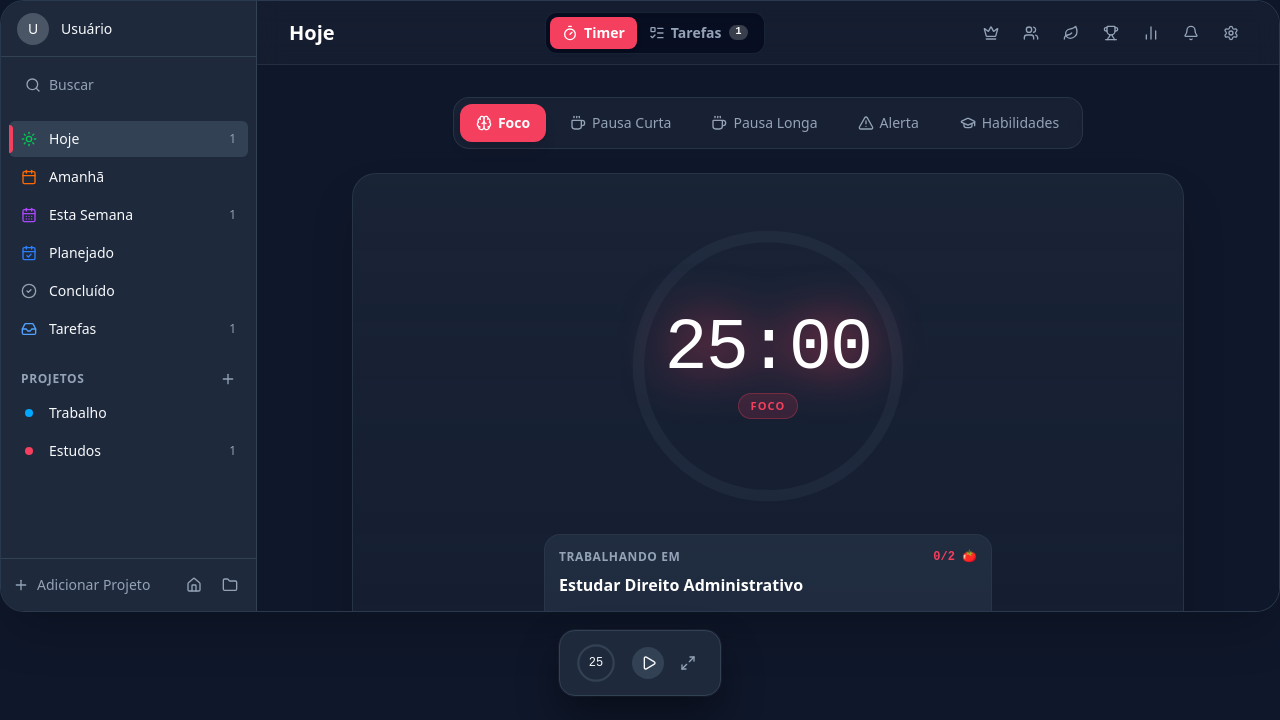
PomodoroView Responsive & Direct Display › allows toggling between Timer view and Tasks view seamlessly
Note: Use aria-label to uniquely target the tab switcher buttons (not the sidebar)
Click the button with aria-label "Alternar para Tarefas" at [698, 32], box [637,16,760,48]
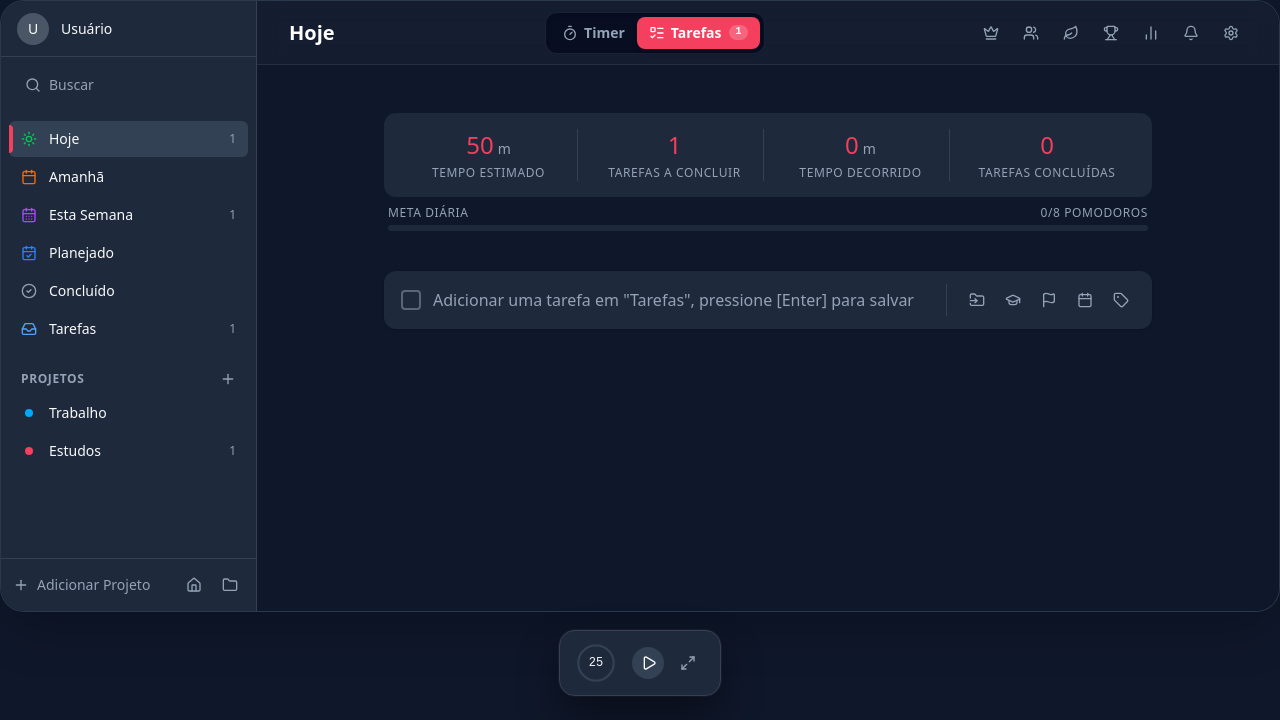
Result: the field with placeholder "Adicionar uma tarefa" is shown at [433,288,914,312]
Note: Click Timer tab to switch back
Click the button with aria-label "Alternar para Timer" at [594, 32], box [550,16,637,48]
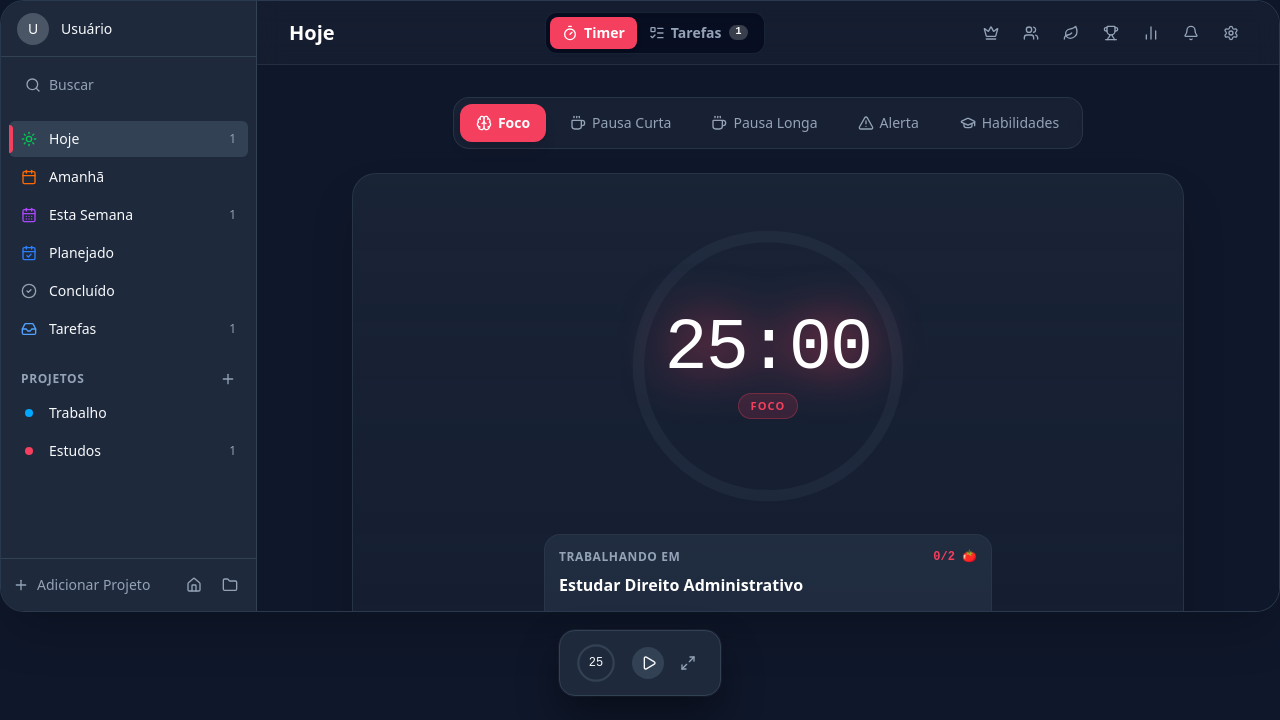
Result: the text "25:00" is shown at [664,313,872,385]
